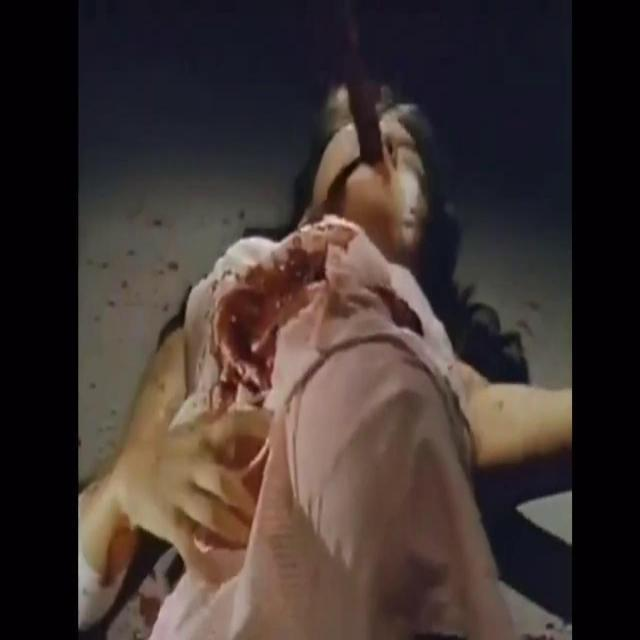flood: (210, 242, 334, 412), (314, 130, 404, 214)
